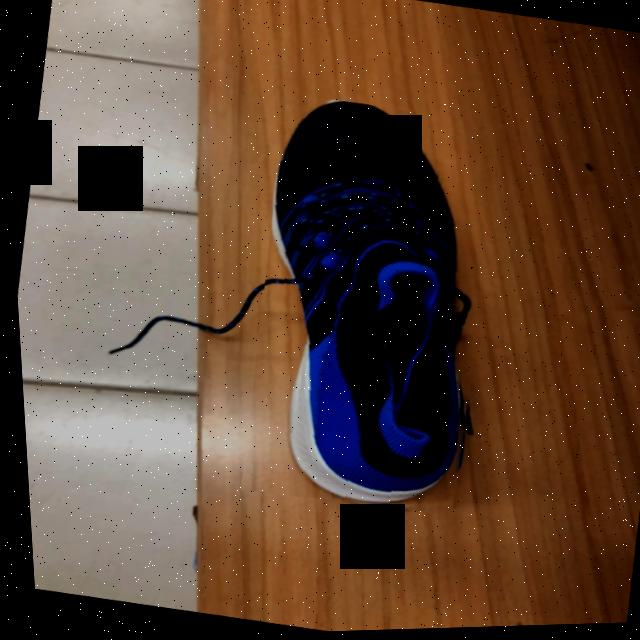shoe: (270, 103, 468, 510)
